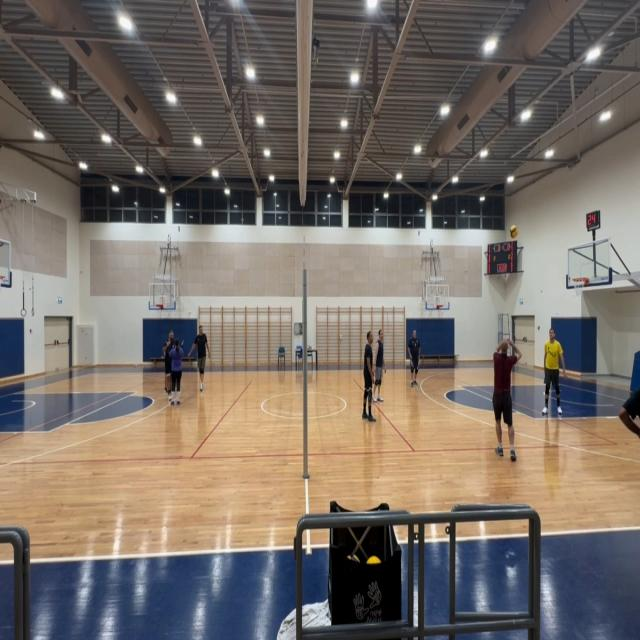volleyball: (510, 225, 518, 239)
